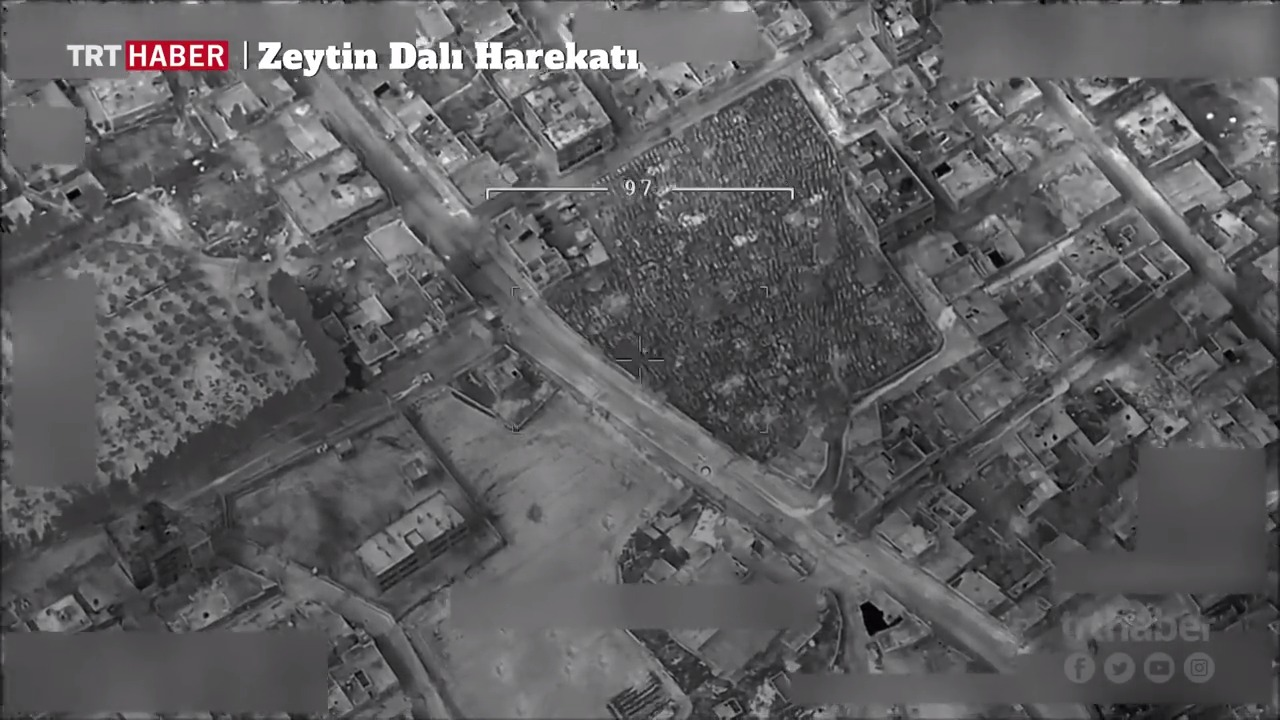bina: (340, 483, 467, 594)
